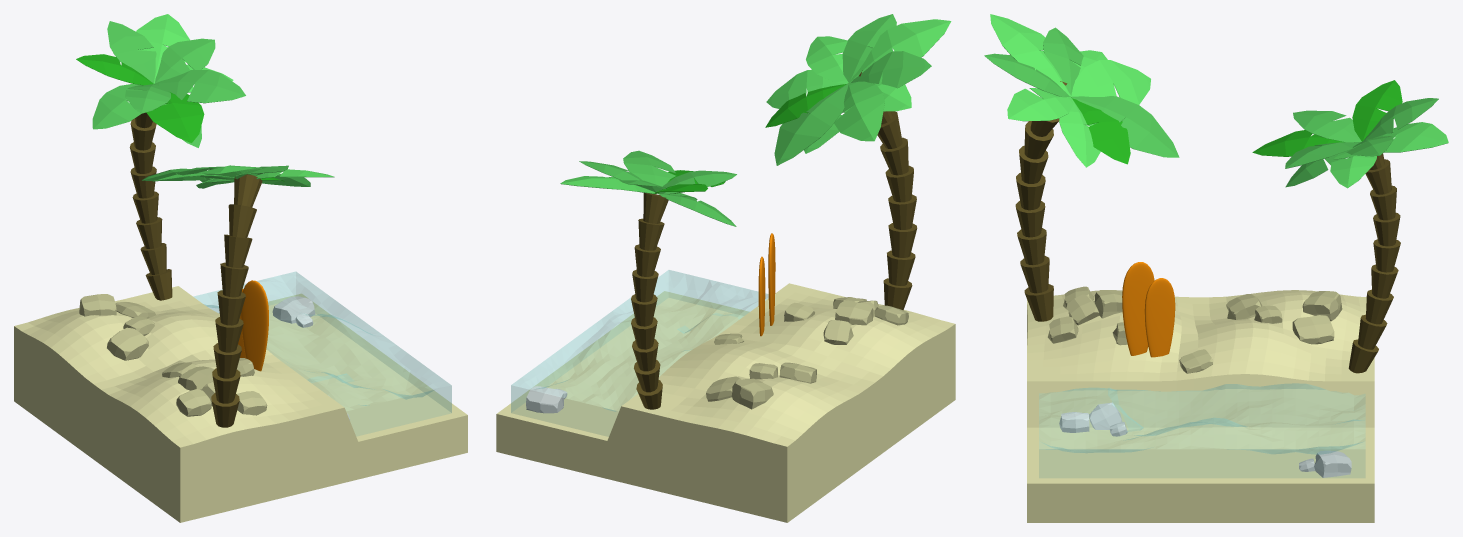
The model's file is model_low_polygon_fourth.glb.
The picture shows the model from 3 angles, left to right: view 1: azimuth 30°, elevation 25°; view 2: azimuth 150°, elevation 25°; view 3: azimuth 270°, elevation 25°; orthographic projection. The views are drawn at different scales.
Parts seen in each view (by area): view 1: Terrain, Sea, Trunk.005, Trunk, Surfing board, Leaf.008, Leaf, Leaf.009, Leaf.001, Leaf.002, Leaf.003, Leaf.005 (+7 smaller); view 2: Terrain, Sea, Trunk, Trunk.005, Leaf.019, Leaf.017, Leaf.013, Leaf.010, Leaf.011, Leaf.015, Leaf.012, Leaf.008 (+13 smaller); view 3: Terrain, Sea, Trunk.005, Trunk, Leaf.019, Leaf.017, Surfing board, Leaf.013, Surfing board.002, Leaf, Leaf.016, Leaf.015 (+20 smaller).
Boxes of the visible parts, <box> form: Terrain: <box>14,286,467,522</box>; Sea: <box>193,271,451,435</box>; Trunk.005: <box>211,174,262,427</box>; Trunk: <box>129,112,172,300</box>; Surfing board: <box>241,280,268,371</box>; Leaf.008: <box>154,70,245,103</box>; Leaf: <box>107,21,201,147</box>; Leaf.009: <box>146,84,204,142</box>; Leaf.001: <box>154,38,215,83</box>; Leaf.002: <box>92,84,141,129</box>; Leaf.003: <box>136,14,189,83</box>; Leaf.005: <box>76,54,153,85</box>; Terrain: <box>496,283,955,522</box>; Sea: <box>511,270,768,436</box>; Trunk: <box>631,193,668,409</box>; Trunk.005: <box>848,70,917,310</box>; Leaf.019: <box>774,83,848,165</box>; Leaf.017: <box>834,81,884,141</box>; Leaf.013: <box>849,19,951,83</box>; Leaf.010: <box>804,14,896,153</box>; Leaf.011: <box>851,51,931,88</box>; Leaf.015: <box>806,36,848,83</box>; Leaf.012: <box>766,69,847,108</box>; Leaf.008: <box>623,150,675,186</box>; Terrain: <box>1027,290,1374,522</box>; Sea: <box>1039,383,1365,477</box>; Trunk.005: <box>1015,81,1067,321</box>; Trunk: <box>1348,153,1400,373</box>; Leaf.019: <box>1071,96,1179,157</box>; Leaf.017: <box>1071,60,1150,104</box>; Surfing board: <box>1122,262,1154,355</box>; Leaf.013: <box>990,14,1071,96</box>; Surfing board.002: <box>1144,278,1175,357</box>; Leaf: <box>1285,98,1438,187</box>; Leaf.016: <box>1071,97,1130,164</box>; Leaf.015: <box>1007,88,1073,121</box>.
Bounding box in the file's own units: 2.18 × 2.57 × 2.9.
